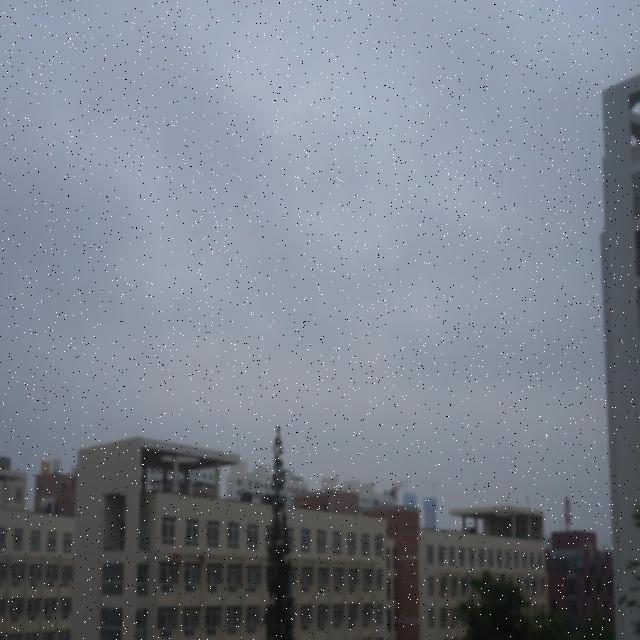UAV: (380, 482, 404, 503)
